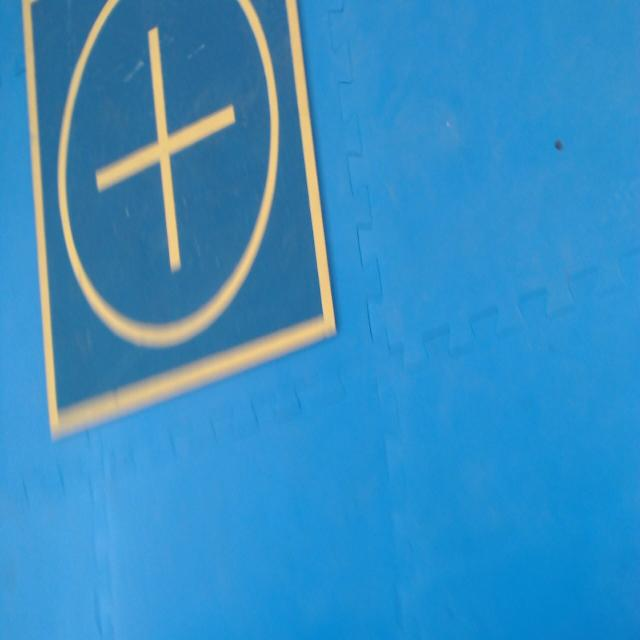base_pouso: (23, 0, 338, 441)
